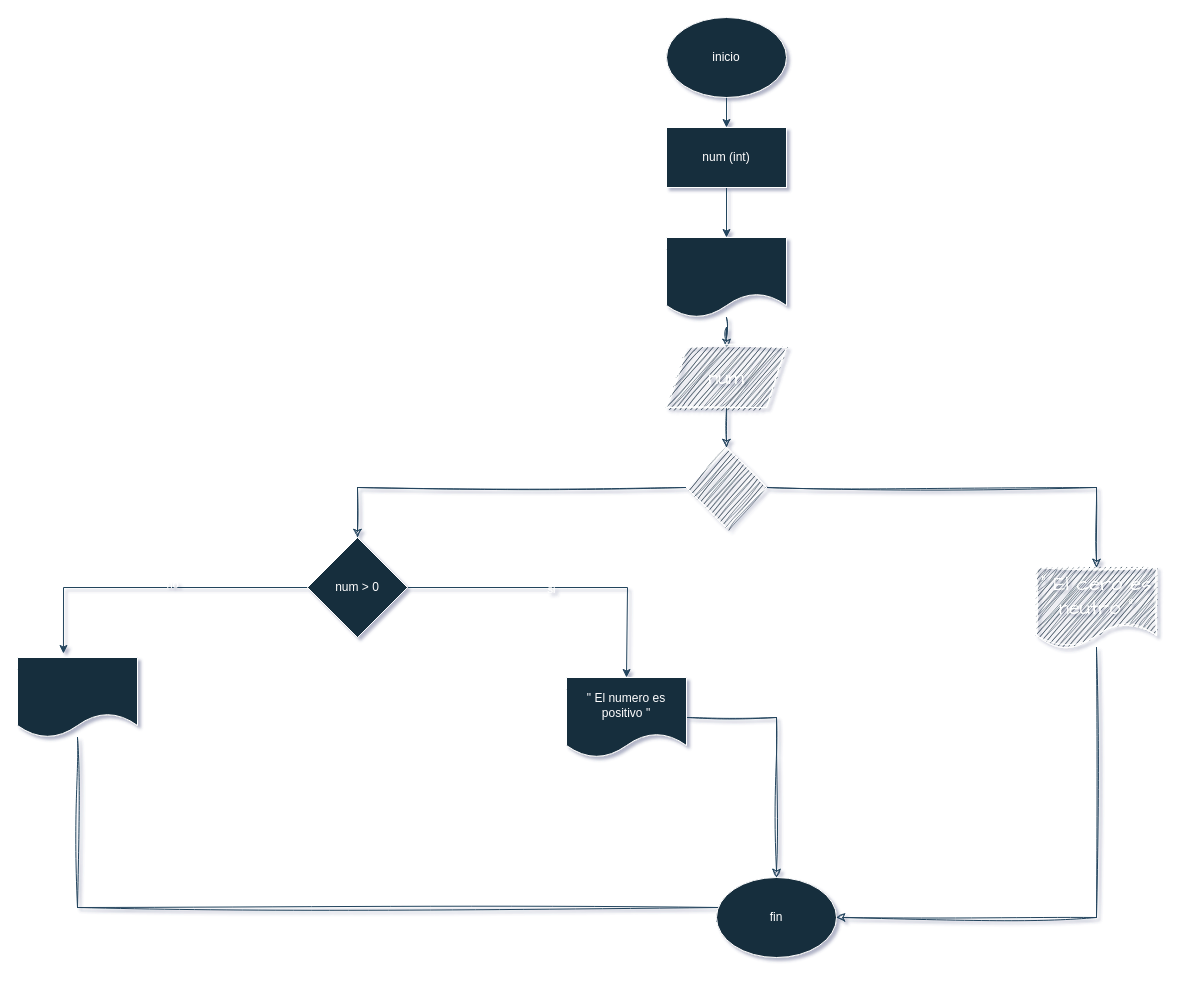
Some shapes in this 1180 by 981 pixel diagram are drawn without their labels. Here are the shapes that lost their labels. From the top down, the centre of each, then its label:
point 726,277: " Ingresa un numero"
point 726,487: num==0
point 77,697: " El numero es negativo"
